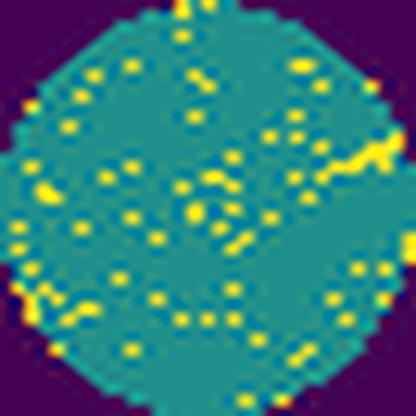Loc: (311, 136, 405, 187)
